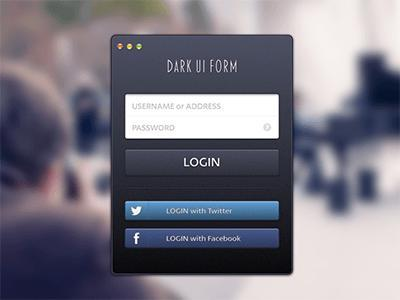button: (126, 151, 280, 177), (126, 202, 279, 222), (127, 229, 280, 249)
input: (127, 96, 280, 118), (127, 118, 279, 139)
label: (165, 59, 243, 78)
